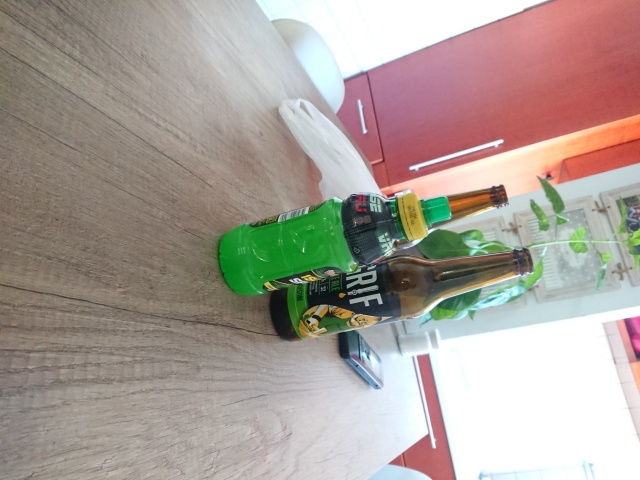Vindi Iso Sport Lemon-Grapefruit 500mL: (215, 190, 456, 300)
